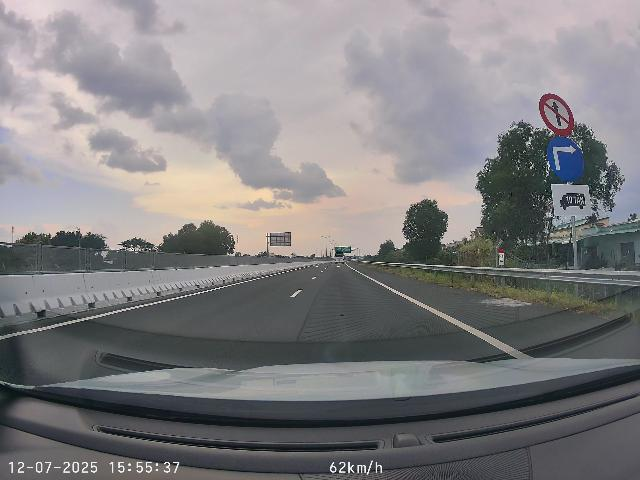136-cam-di-thang: (539, 92, 574, 136)
301d-cac-xe-chi-duoc-re-phai-2: (547, 136, 584, 182)
